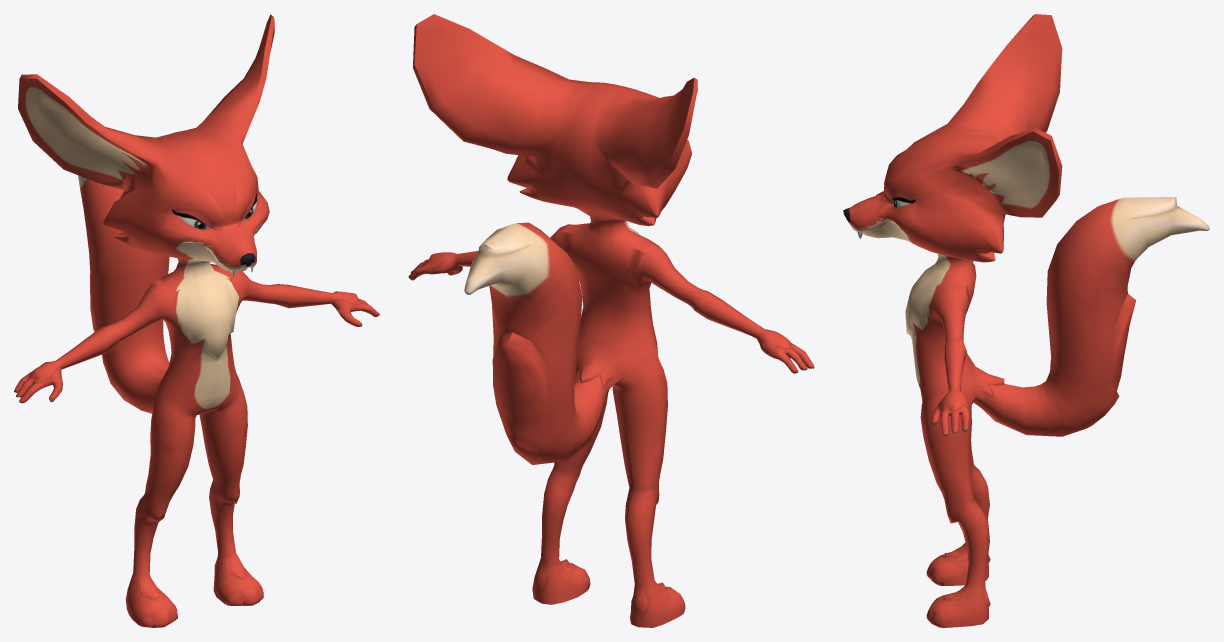
The model's file is SlyFox_Final.fbx.
3 renders of one model, left to right at view 1: azimuth 30°, elevation 25°; view 2: azimuth 150°, elevation 25°; view 3: azimuth 270°, elevation 25°, orthographic. The views are drawn at different scales.
Visible parts, largest first — view 1: SlyFox_LP; view 2: SlyFox_LP; view 3: SlyFox_LP.
Boxes of the visible parts, x1,y1,x2,y2 form: SlyFox_LP: (14,14,379,627); SlyFox_LP: (408,14,814,627); SlyFox_LP: (843,14,1209,627).
Bounding box in the file's own units: 106 × 150 × 94.11.
